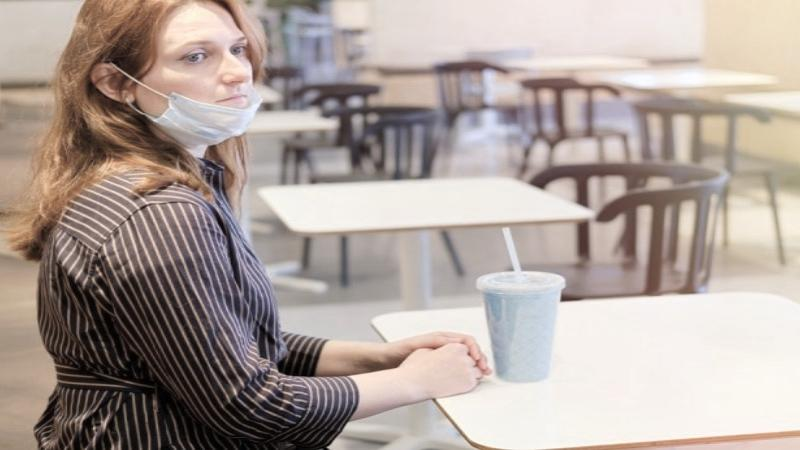mask_weared_incorrect: (61, 1, 260, 148)
